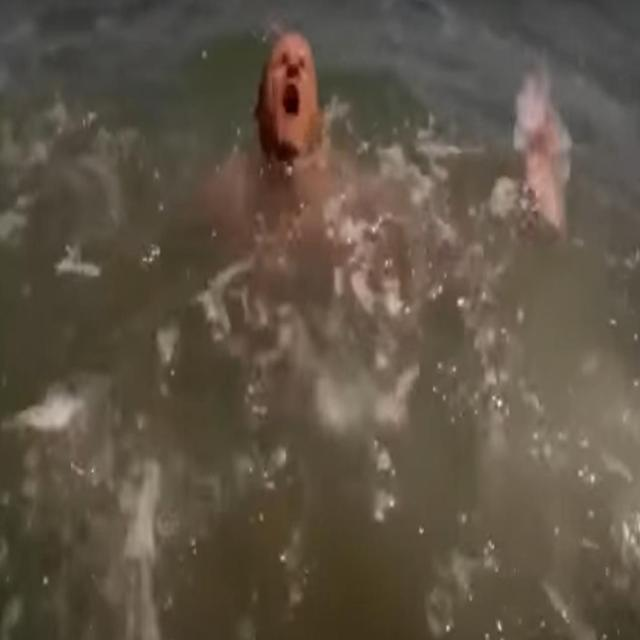Out of Water: (241, 29, 339, 168)
